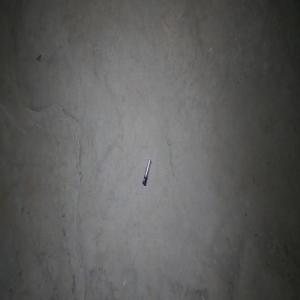Battery: (142, 158, 152, 186)
